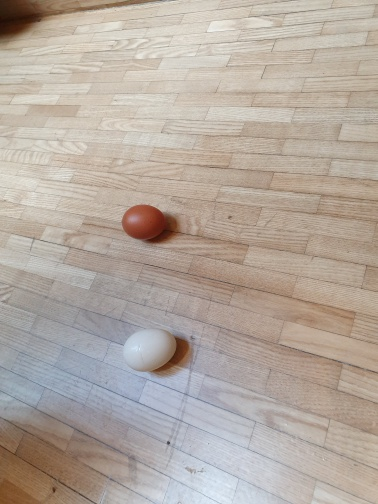egg: (122, 327, 178, 373), (121, 204, 167, 243)
